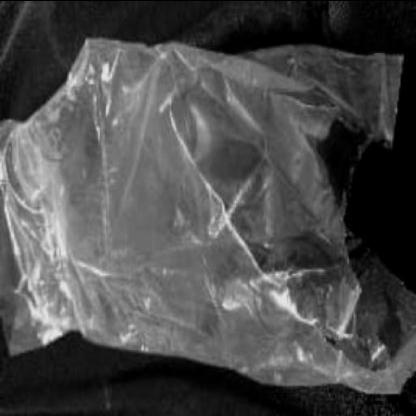objects: (0, 40, 416, 390)
